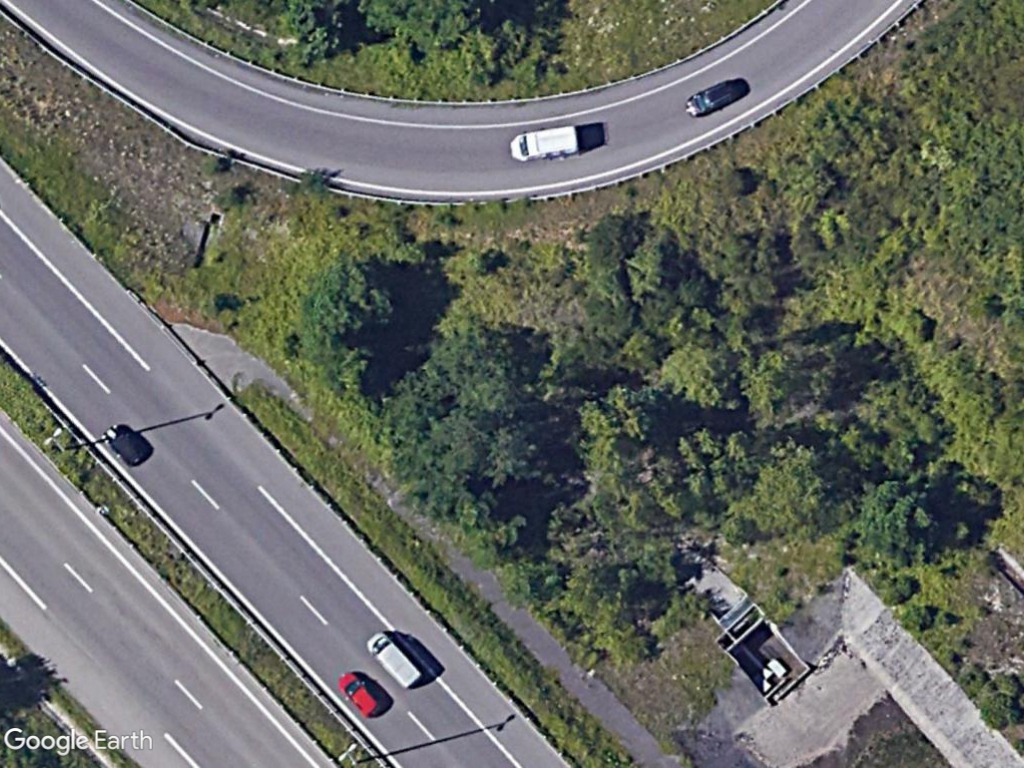car: (682, 78, 739, 122), (334, 670, 383, 720)
van: (362, 631, 423, 691), (505, 122, 582, 163)
